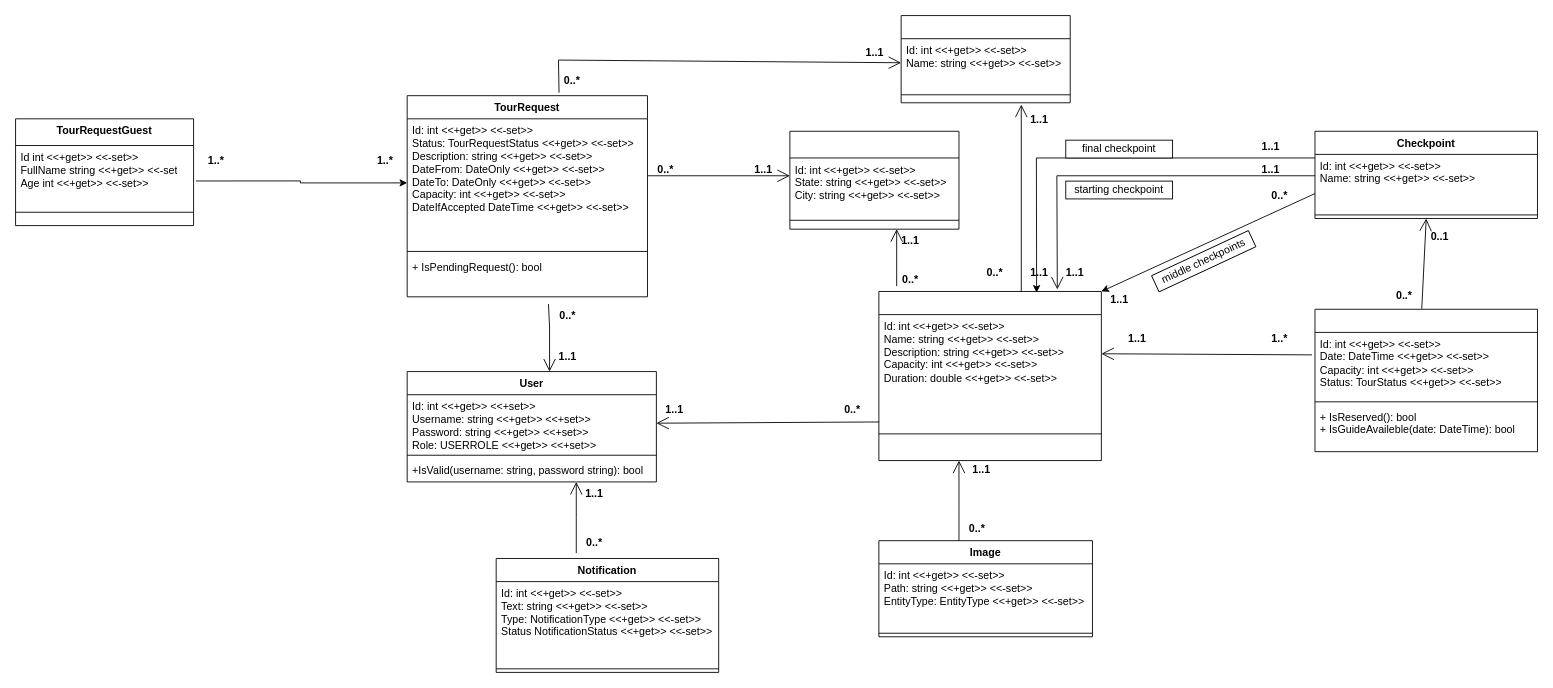
The diagram is 1553 pixels wide and 688 high, and some of its shapes have lost their labels. The shapes that lost their labels are listed below. From the top down, each one's box as (x1, y1, x2, y2) in pixels, then its label:
(900, 15, 1070, 103): Language
(789, 130, 959, 229): Location
(878, 291, 1101, 461): Tour
(1314, 308, 1537, 452): StartTourDate
